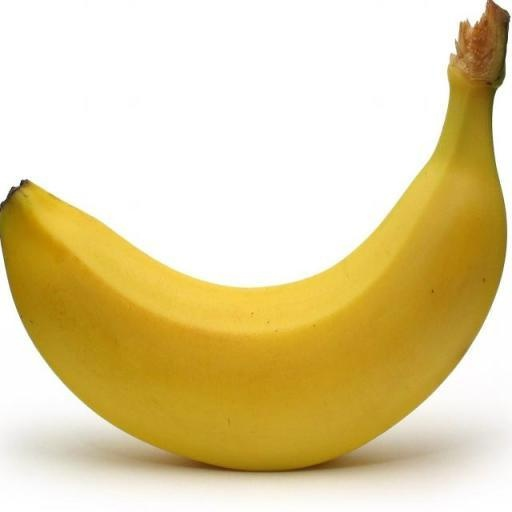fruit: (500, 30, 510, 112)
